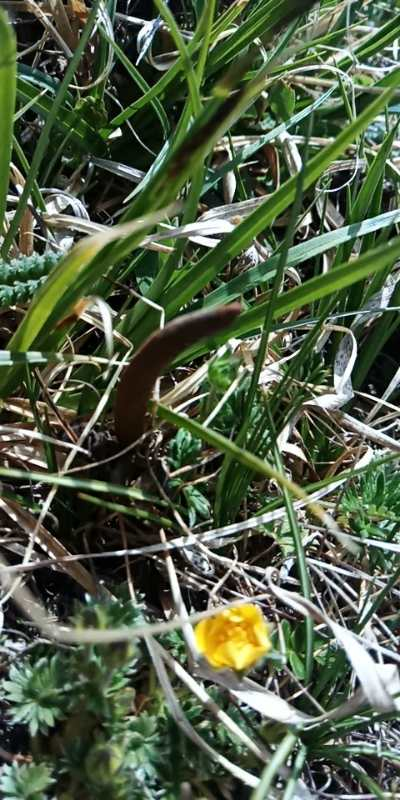cpf: (113, 300, 244, 471)
